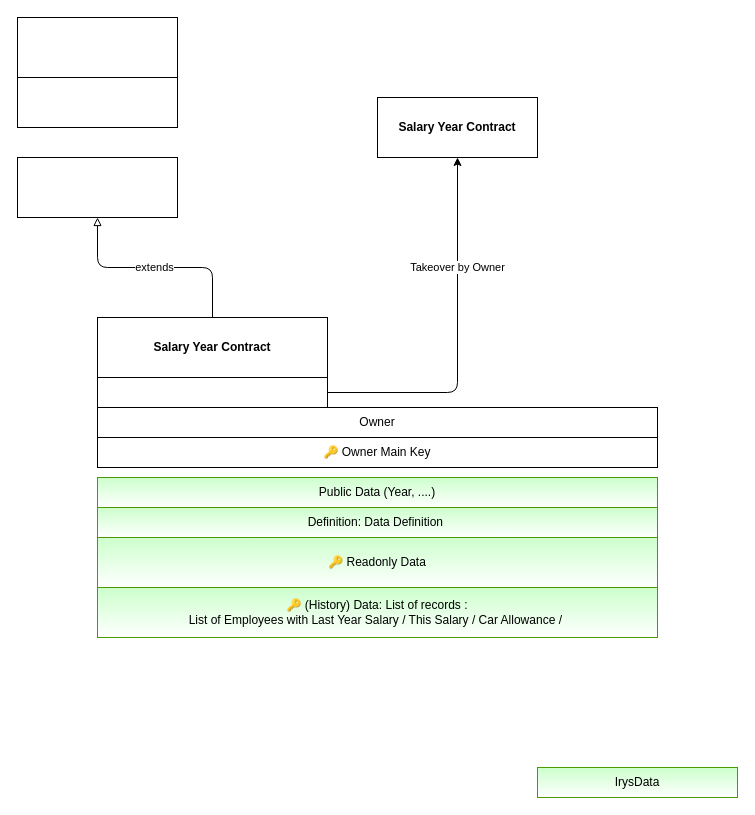
Some shapes in this 755 by 815 pixel diagram are drawn without their labels. The centre of each missing label's shape, as x and y in pixels:
"OwnableWithBackup" belongs at (97,187).
"Previous Year" belongs at (212,392).
"SharedSecretStore" belongs at (97,47).
"🔑 Keys for Maintainer" belongs at (97,102).
